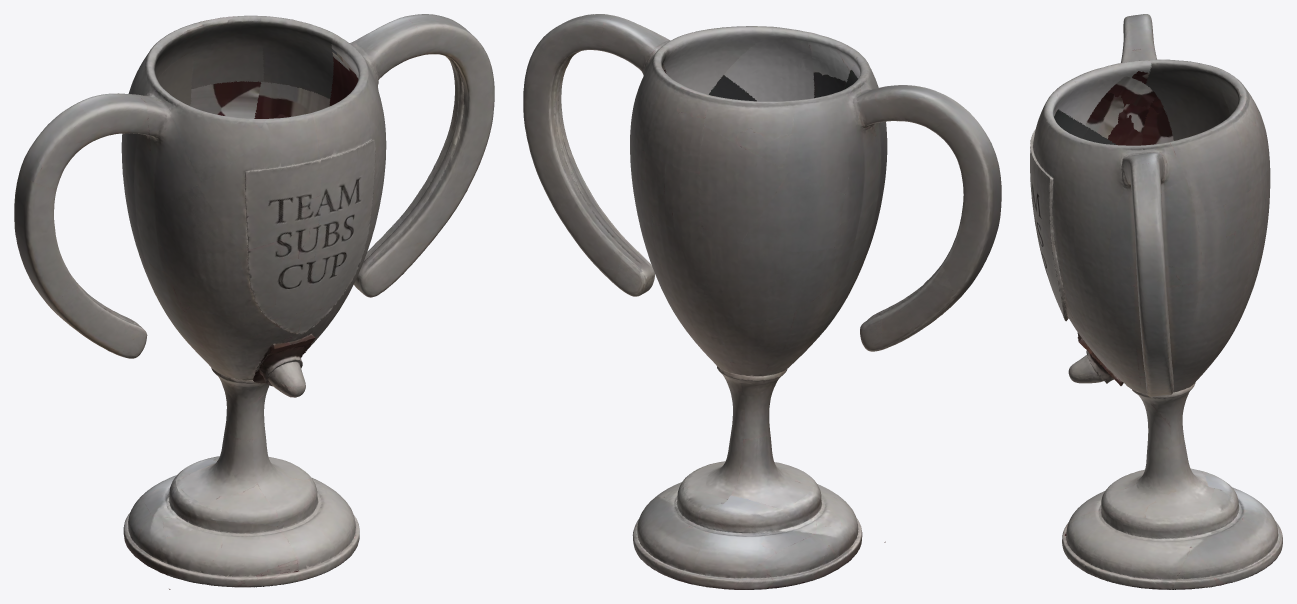
The model's file is copa_4.glb.
3 views of the same model, side by side, from view 1: azimuth 30°, elevation 25°; view 2: azimuth 150°, elevation 25°; view 3: azimuth 270°, elevation 25° (orthographic). The views are drawn at different scales.
Parts seen in each view (by area): view 1: tmp15om8j3zobj; view 2: tmp15om8j3zobj; view 3: tmp15om8j3zobj.
Boxes of the visible parts, x1,y1,x2,y2 form: tmp15om8j3zobj: [14, 14, 494, 589]; tmp15om8j3zobj: [523, 14, 1001, 589]; tmp15om8j3zobj: [1030, 14, 1282, 589].
Size of the model in its own units: 0.8349 by 0.8217 by 0.417.
1 material, 1 textured.
